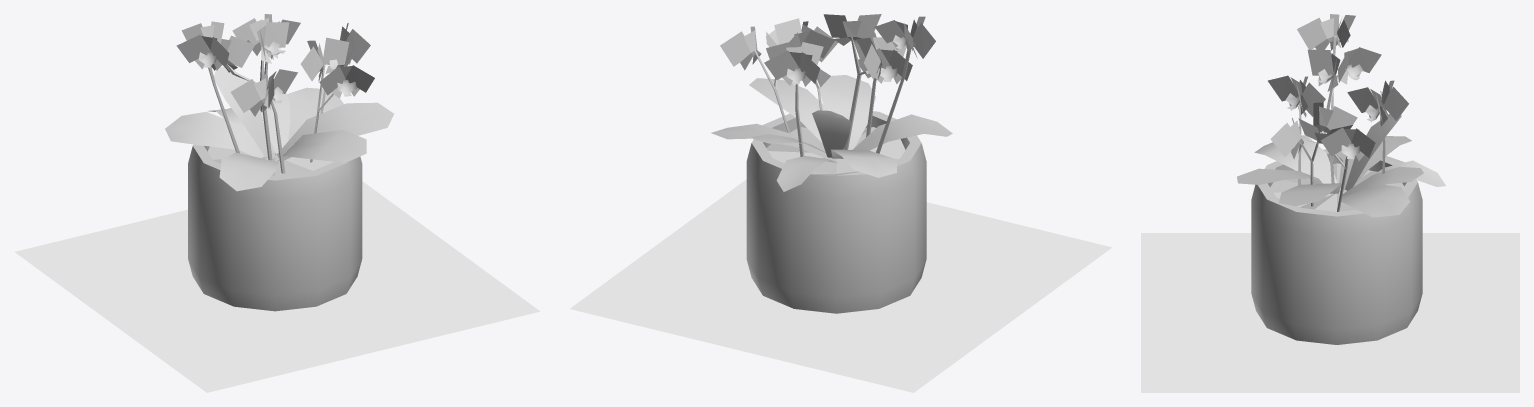
Rendered from plant_008.FBX.
The picture shows the model from 3 angles, left to right: view 1: azimuth 30°, elevation 25°; view 2: azimuth 150°, elevation 25°; view 3: azimuth 270°, elevation 25°; orthographic projection. The views are drawn at different scales.
Visible parts, largest first — view 1: plant_011, shadow_012; view 2: plant_011, shadow_012; view 3: shadow_012, plant_011.
Part boxes in pixels (box(x1,y1,x2,y2)): plant_011: box(165, 14, 393, 311); shadow_012: box(15, 181, 540, 392); plant_011: box(711, 14, 952, 313); shadow_012: box(570, 179, 1112, 392); shadow_012: box(1141, 233, 1519, 392); plant_011: box(1237, 14, 1445, 344).
Size of the model in its own units: 537 by 415 by 537.
